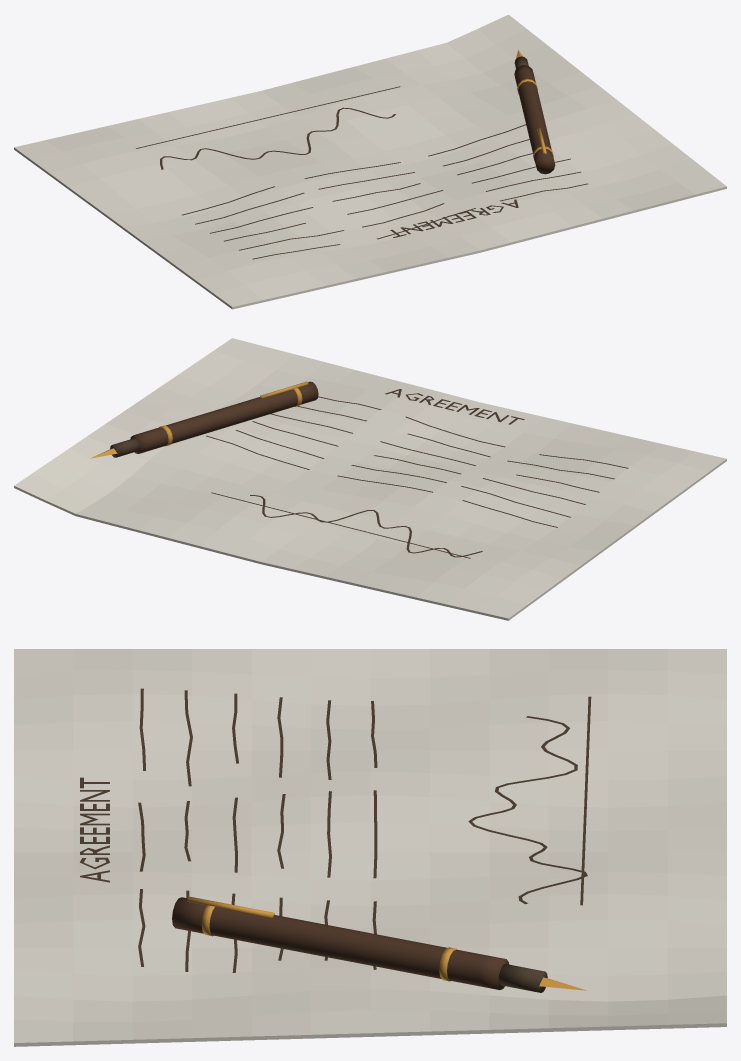
Rendered from Exhibit_5_signature.fbx.
3 views of the same model, one above another, from view 1: azimuth 30°, elevation 25°; view 2: azimuth 150°, elevation 25°; view 3: azimuth 270°, elevation 25° (orthographic). The views are drawn at different scales.
Parts seen in each view (by area): view 1: Exhibit_5_signature; view 2: Exhibit_5_signature; view 3: Exhibit_5_signature.
Part boxes in pixels (left/top/right/bottom): Exhibit_5_signature: left=14, top=14, right=726, bottom=309; Exhibit_5_signature: left=14, top=338, right=726, bottom=620; Exhibit_5_signature: left=14, top=649, right=726, bottom=1046.
Bounding box in the file's own units: 0.34 × 0.26 × 0.0234.
